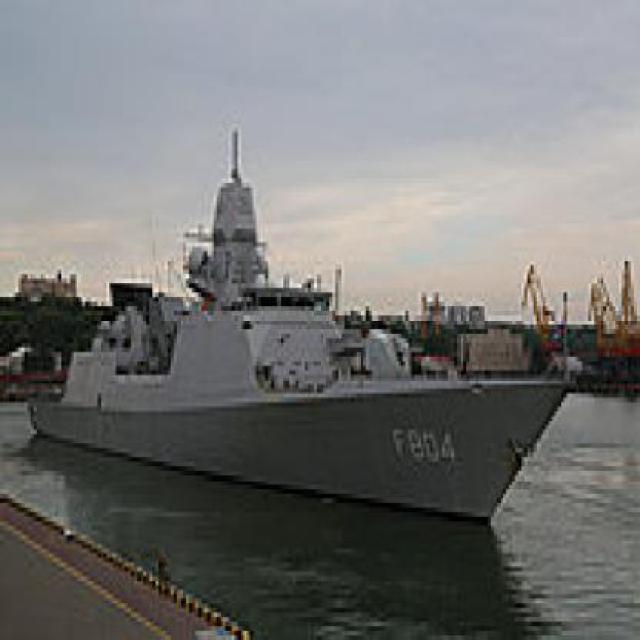warship2: (19, 110, 586, 541)
